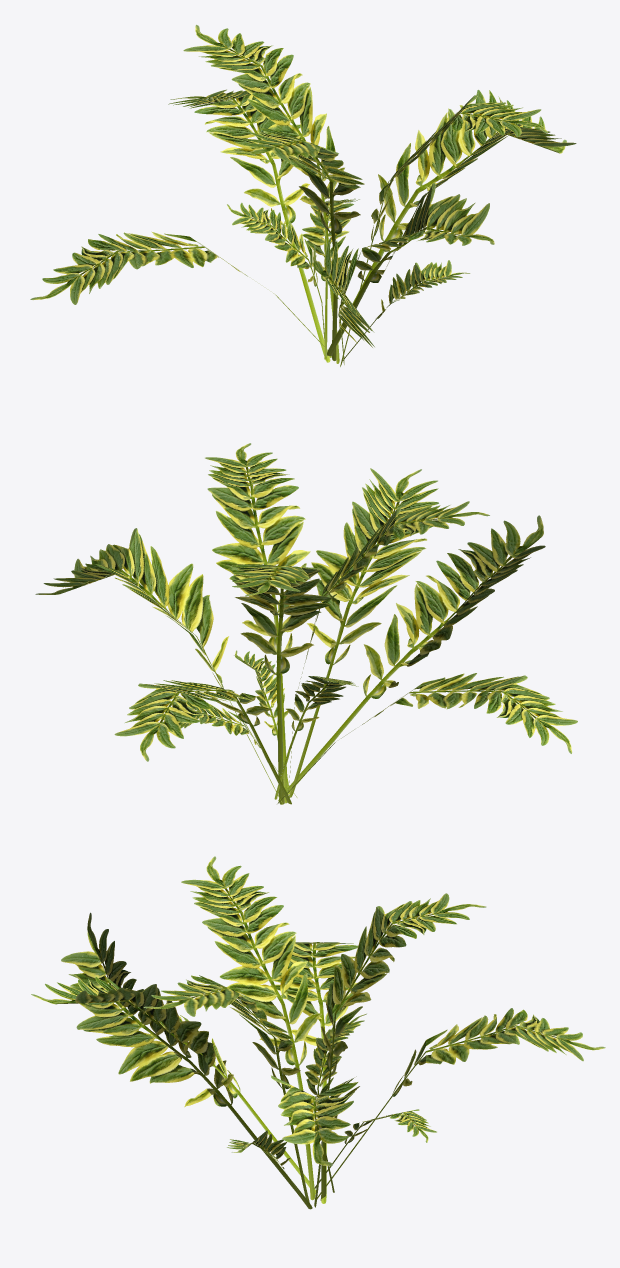
File: куст6.fbx
3 renders of one model, top to bottom at view 1: azimuth 30°, elevation 25°; view 2: azimuth 150°, elevation 25°; view 3: azimuth 270°, elevation 25°, orthographic. The views are drawn at different scales.
Visible parts, largest first — view 1: 1522185939_3; view 2: 1522185939_3; view 3: 1522185939_3.
Part boxes in pixels (box(x1,y1,x2,y2)): 1522185939_3: box(30, 24, 576, 366); 1522185939_3: box(35, 443, 577, 804); 1522185939_3: box(31, 856, 605, 1209).
Size of the model in its own units: 626 by 362 by 616.
